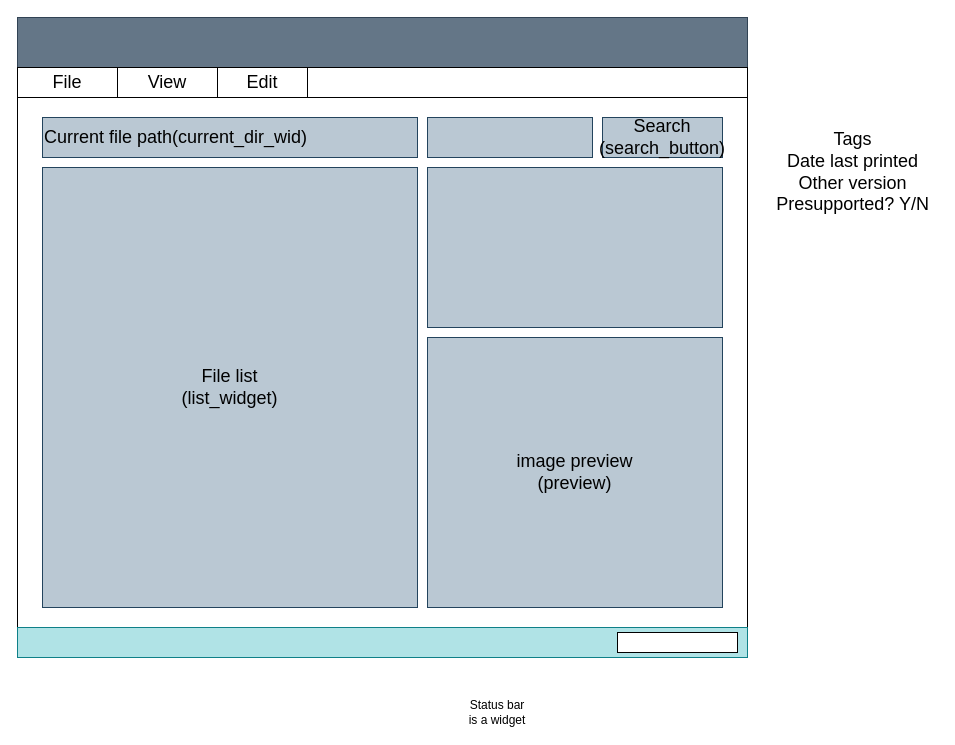
The diagram is 955 pixels wide and 745 high, and some of its shapes have lost their labels. The shapes that lost their labels are listed below. From the top down, each one's centre as x and y in pixels, then its label:
[382,42]: STL Manager
[509,137]: Search Text box(search_text)
[574,247]: File parameters (parameters)
[677,642]: 12m since last scan
